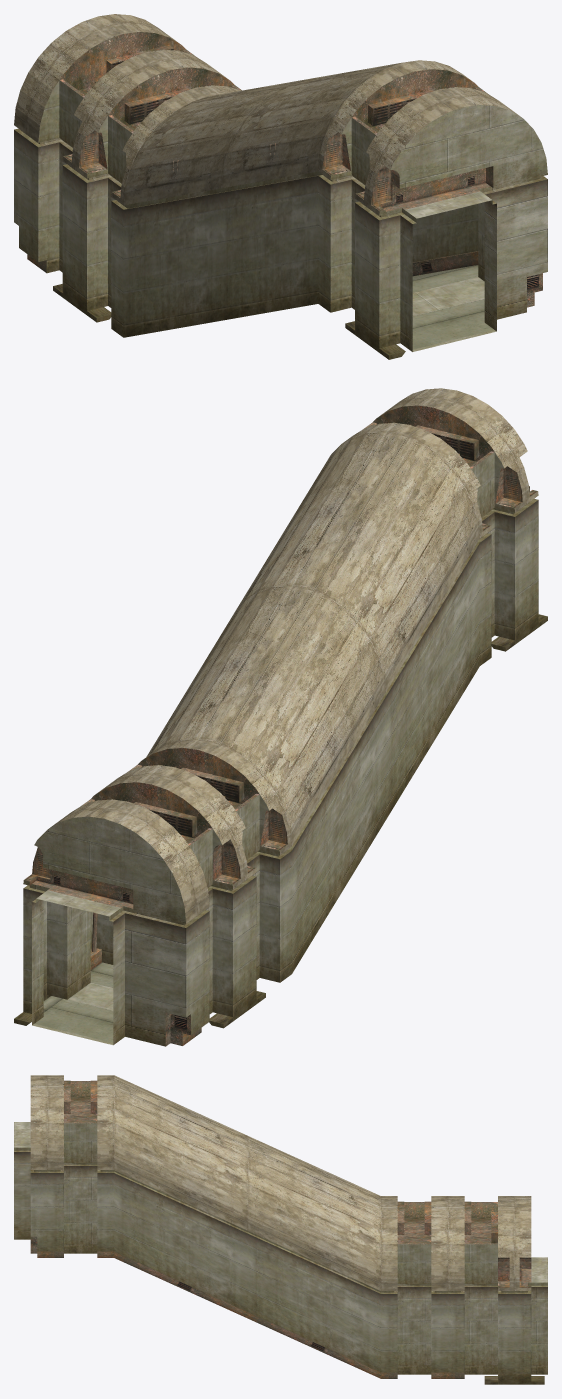
Rendered from poi_all_bunker_allum_mine_r36_hall36_mesh_r36.fbx.
The picture shows the model from 3 angles, top to bottom: view 1: azimuth 30°, elevation 25°; view 2: azimuth 150°, elevation 25°; view 3: azimuth 270°, elevation 25°; orthographic projection. The views are drawn at different scales.
Visible parts, largest first — view 1: mesh_node; view 2: mesh_node; view 3: mesh_node.
Part boxes in pixels (x1,y1,x2,y2): mesh_node: (14, 14, 547, 359); mesh_node: (14, 388, 547, 1046); mesh_node: (14, 1075, 547, 1384).
Bounding box in the file's own units: 4 × 9.1 × 16.
